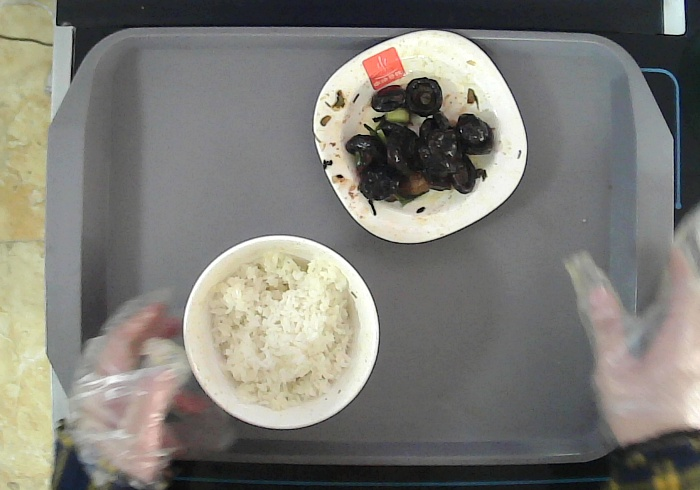SHKJ-Bai_Se_Si_Fang_Cai_Die: (311, 28, 529, 245)
SHKJ-Fan_Wan: (181, 232, 381, 432)
